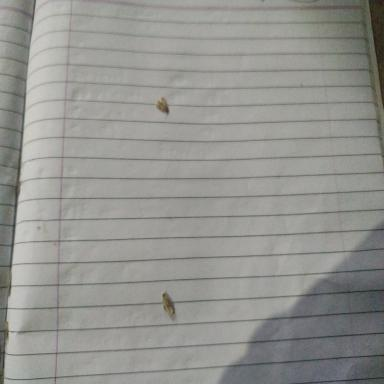pbw: (161, 291, 174, 315), (154, 96, 170, 114)
